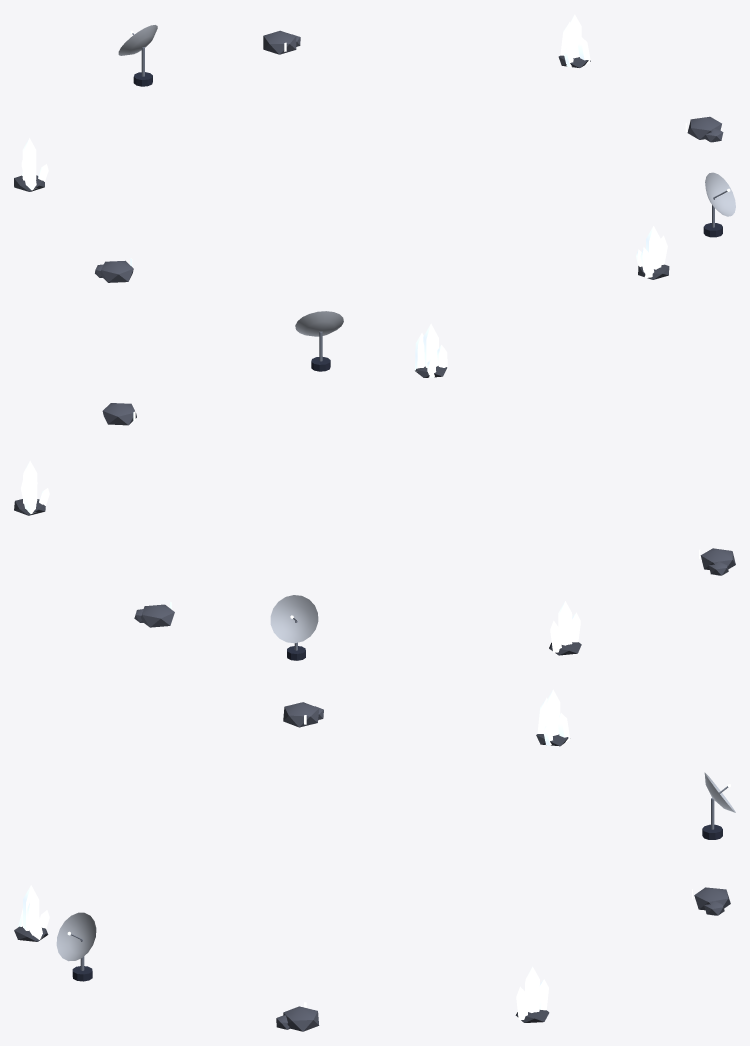
3 renders of one model, top to bottom at view 1: azimuth 30°, elevation 25°; view 2: azimuth 150°, elevation 25°; view 3: azimuth 270°, elevation 25°, orthographic. The views are drawn at different scales.
Visible parts, largest first — view 1: nexo_decor_frontera.lod1; view 2: nexo_decor_frontera.lod1; view 3: nexo_decor_frontera.lod1.
Part boxes in pixels (x1,y1,x2,y2): nexo_decor_frontera.lod1: (14,14,735,282); nexo_decor_frontera.lod1: (14,311,735,660); nexo_decor_frontera.lod1: (14,689,735,1031).
Bounding box in the file's own units: 29.42 × 2.84 × 28.08.
